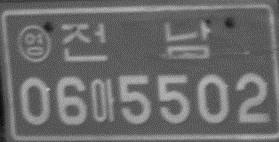0: (18, 75, 51, 126), (196, 74, 229, 124)
2: (234, 72, 269, 123)
5: (157, 73, 191, 125), (118, 74, 151, 125)
6: (54, 75, 88, 126)
아: (89, 77, 117, 123)
영: (15, 24, 52, 63)
전남_D: (60, 19, 211, 64)
